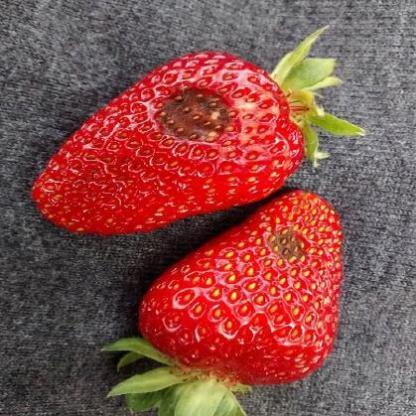Strawberry_Anthracnose_Fruit_Rot: (149, 86, 240, 146), (262, 225, 313, 265)
